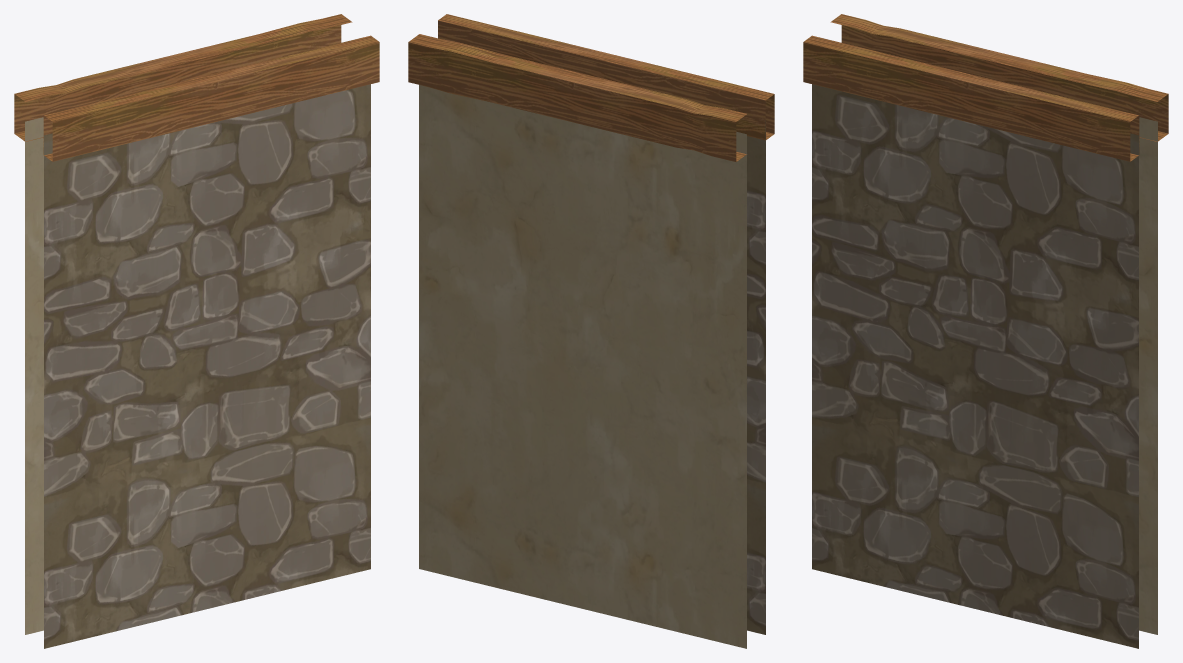
File: Wall_UnevenBrick_Straight.gltf
The picture shows the model from 3 angles, left to right: view 1: azimuth 30°, elevation 25°; view 2: azimuth 150°, elevation 25°; view 3: azimuth 330°, elevation 25°; orthographic projection.
Visible parts, largest first — view 1: Wall_UnevenBrick_Straight; view 2: Wall_UnevenBrick_Straight; view 3: Wall_UnevenBrick_Straight.
Part boxes in pixels (box(x1,y1,x2,y2)): Wall_UnevenBrick_Straight: box(14, 14, 379, 648); Wall_UnevenBrick_Straight: box(408, 14, 774, 648); Wall_UnevenBrick_Straight: box(803, 14, 1168, 648).
Bounding box in the file's own units: 2 × 3.12 × 0.4065.
3 materials, 3 textured.
